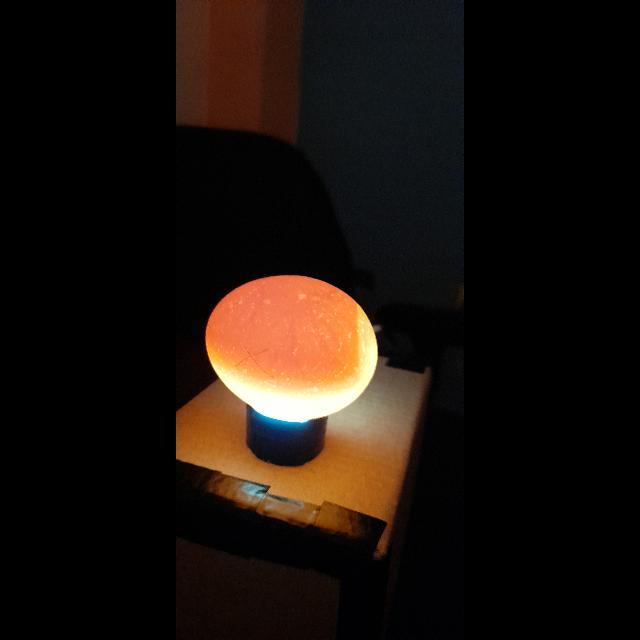Fertile: (202, 268, 390, 424)
